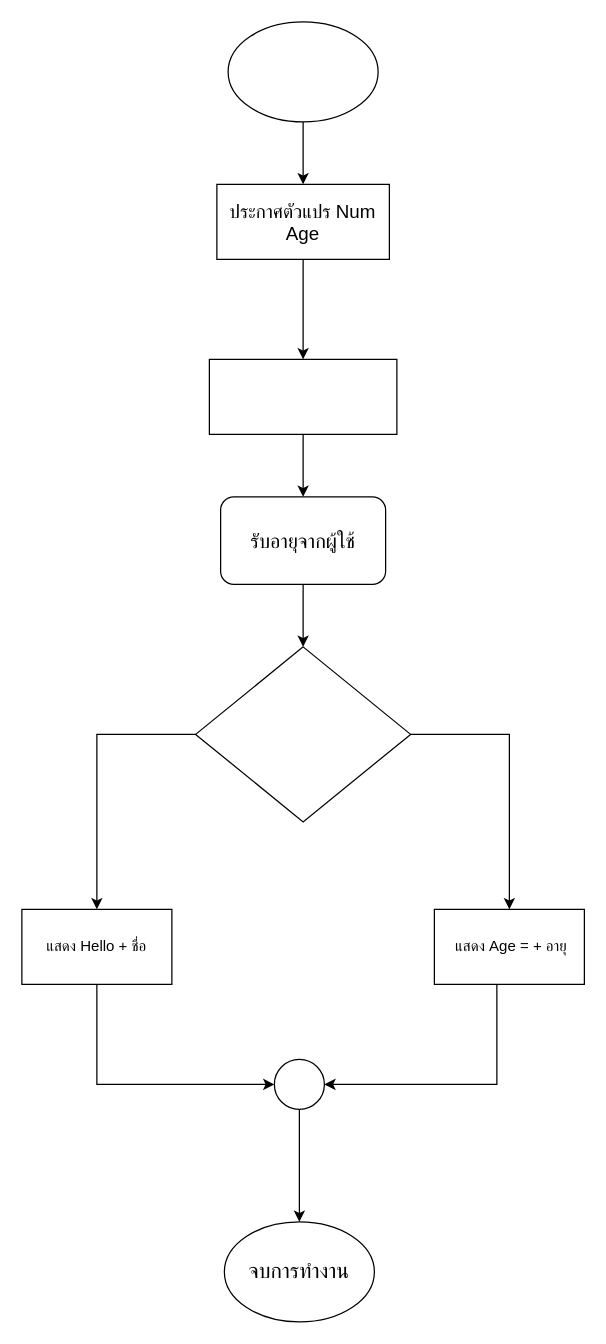
The diagram is 606 pixels wide and 1344 high, and some of its shapes have lost their labels. The shapes that lost their labels are listed below. From the top down, each one's centre as x and y in pixels, then its label:
point 302,71: เริ่มต้น
point 302,396: รับชื่อจากผู้ใช้
point 302,734: แสดงผลลัพธ์จากผู้ใช้
